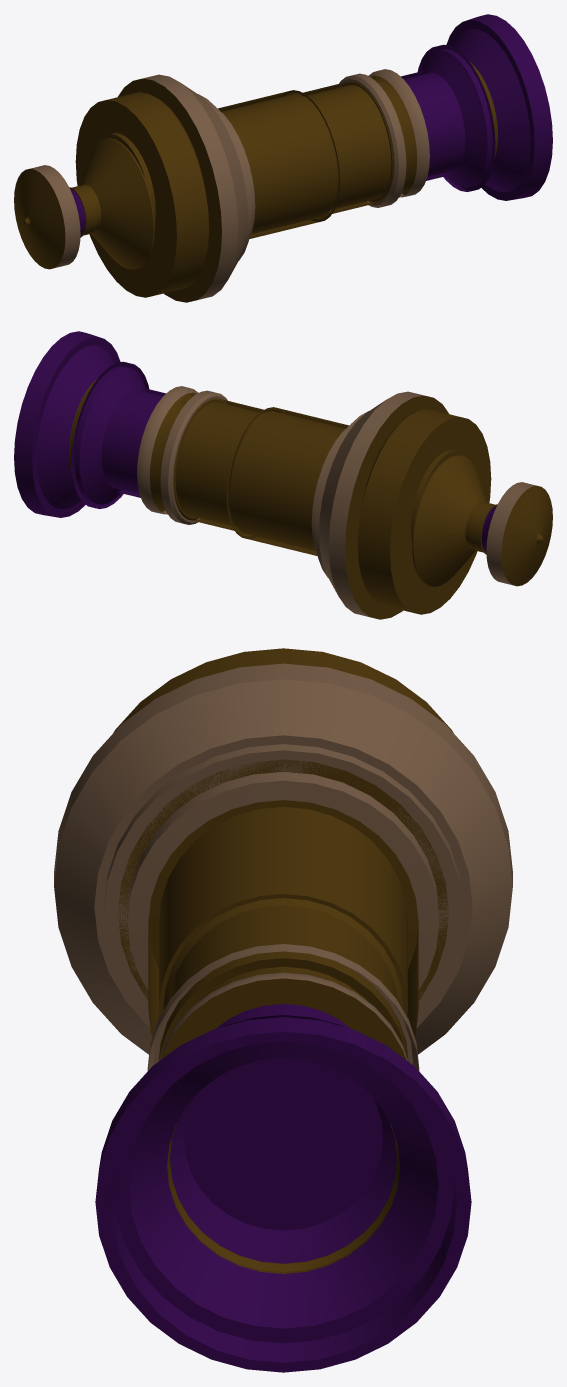
File: bazooka.fbx
3 renders of one model, top to bottom at view 1: azimuth 30°, elevation 25°; view 2: azimuth 150°, elevation 25°; view 3: azimuth 270°, elevation 25°, orthographic. The views are drawn at different scales.
Visible parts, largest first — view 1: Circle.001, Circle, Circle.002; view 2: Circle.001, Circle, Circle.002; view 3: Circle, Circle.002, Circle.001.
Boxes of the visible parts, <box> form: Circle.001: <box>14,61,497,302</box>; Circle: <box>70,14,552,235</box>; Circle.002: <box>30,69,429,300</box>; Circle.001: <box>69,378,552,619</box>; Circle: <box>14,331,496,552</box>; Circle.002: <box>137,386,536,617</box>; Circle: <box>95,1004,471,1372</box>; Circle.002: <box>54,663,512,1070</box>; Circle.001: <box>113,648,453,1273</box>.
Size of the model in its own units: 214 by 88.39 by 88.39.
